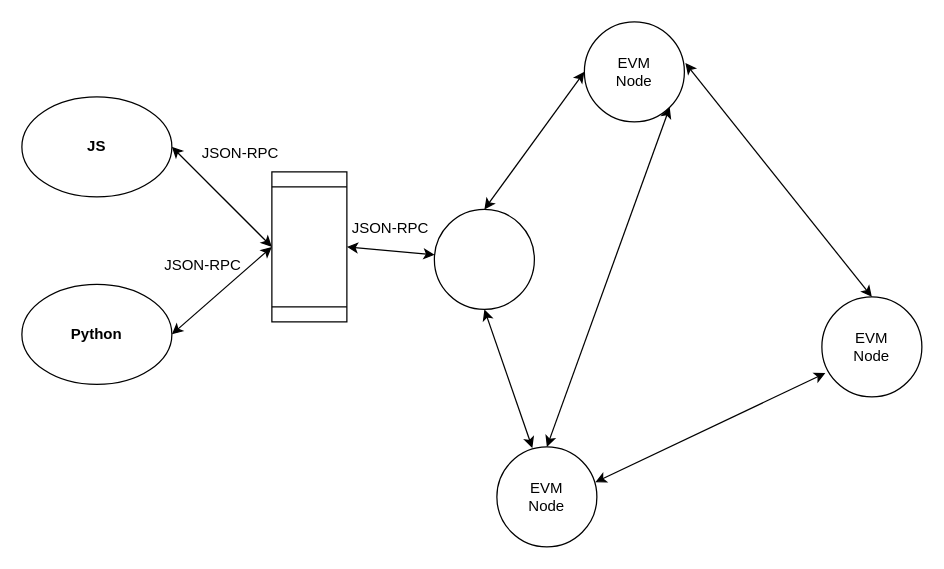
Image size: 944x569. Some labels were removed from this diagram. The shapes that lost their labels are listed below. From the top down, each one's box as (x1, y1, x2, y2) in pixels, then its label:
(271, 171, 347, 322): web3 interface
(433, 208, 534, 309): Client Node
